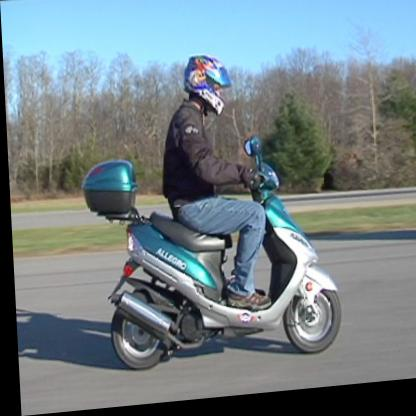With Helmet: (177, 47, 229, 123)
